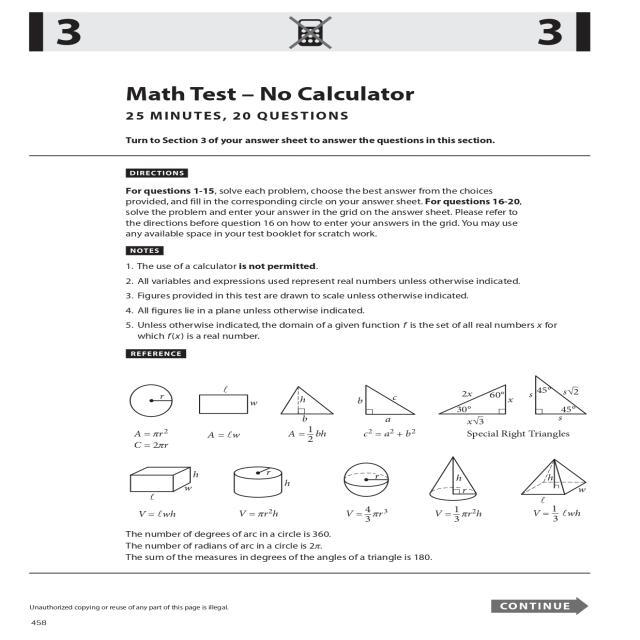Instruction: (94, 158, 587, 568)
Question_Paper_Area: (94, 158, 587, 568)
